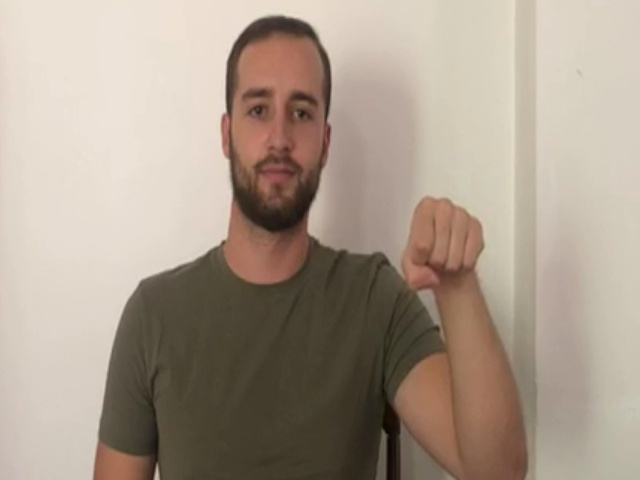Da: (399, 193, 488, 293)
